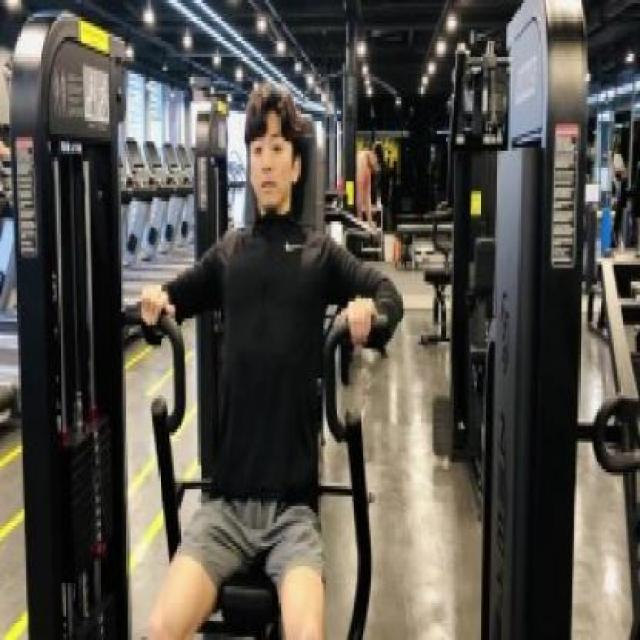Chest Press machine: (9, 6, 591, 640)
